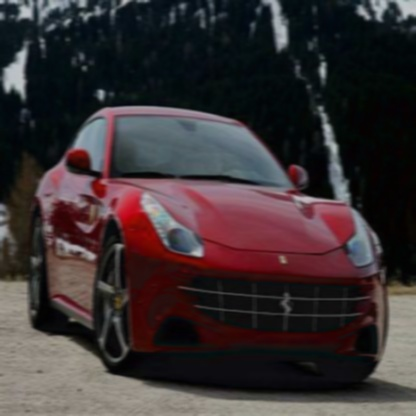Vehicle: (27, 100, 391, 391)
